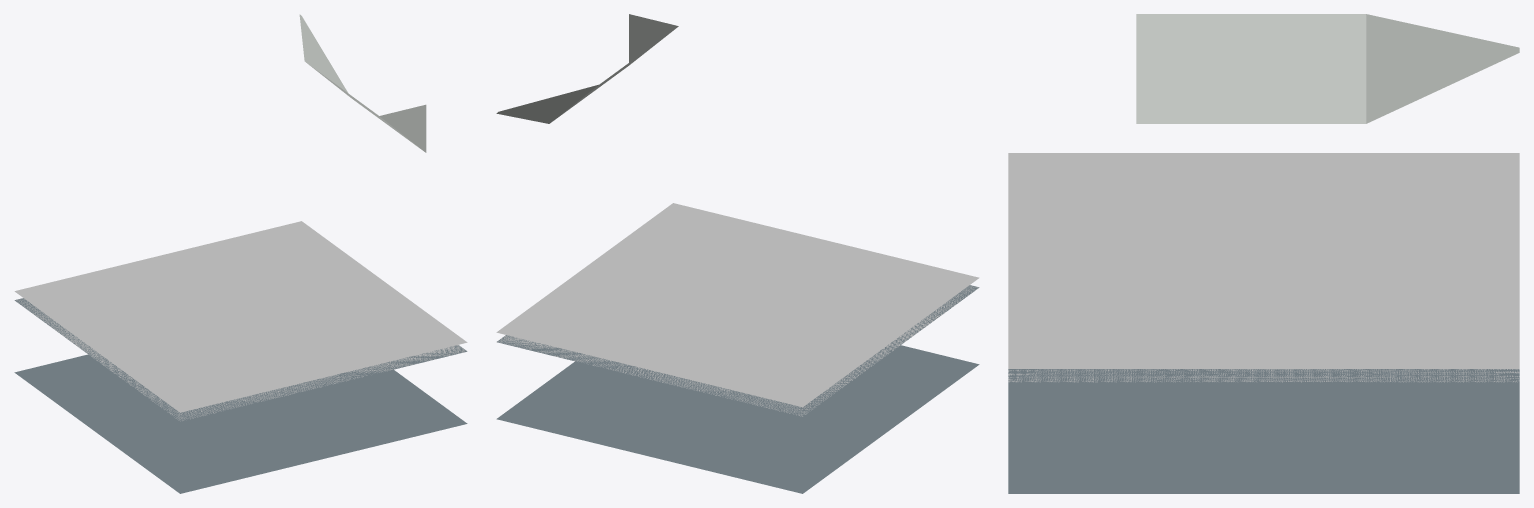
Rendered from cell_36.obj.
3 views of the same model, side by side, from view 1: azimuth 30°, elevation 25°; view 2: azimuth 150°, elevation 25°; view 3: azimuth 270°, elevation 25° (orthographic). The views are drawn at different scales.
Size of the model in its own units: 1 by 0.96 by 1.
